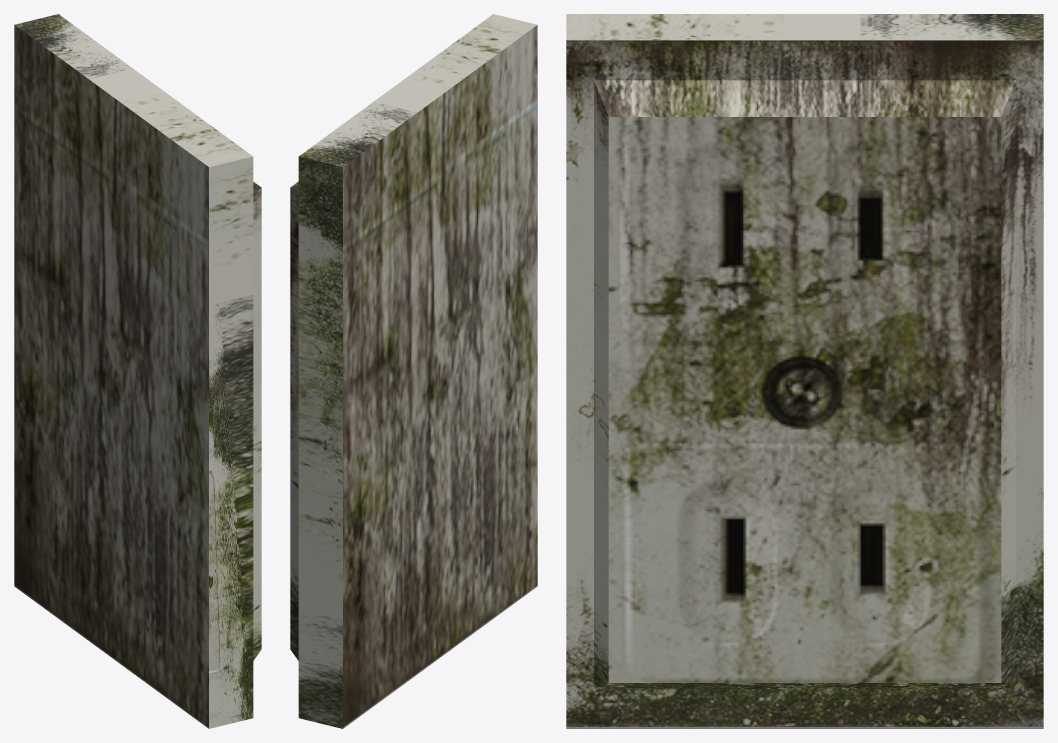
The model's file is PowerSocket.fbx.
3 renders of one model, left to right at view 1: azimuth 30°, elevation 25°; view 2: azimuth 150°, elevation 25°; view 3: azimuth 270°, elevation 25°, orthographic. The views are drawn at different scales.
Parts seen in each view (by area): view 1: pCube1; view 2: pCube1; view 3: pCube1.
Boxes of the visible parts, box(x1,y1,x2,y2) form: pCube1: box(14, 14, 261, 728); pCube1: box(290, 14, 537, 728); pCube1: box(566, 14, 1043, 728).
Size of the model in its own units: 1.16 by 8.89 by 5.59.
